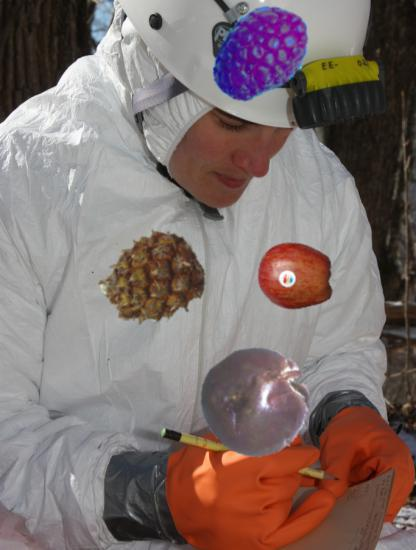Apple: (257, 238, 333, 314)
Passion: (201, 345, 314, 458)
Pineapple: (101, 227, 205, 331)
Raspberry: (209, 2, 317, 110)
